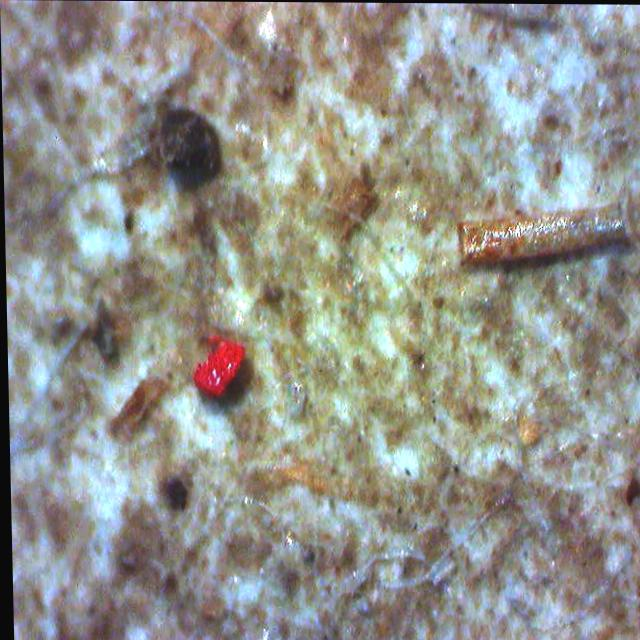microplastic: (184, 329, 251, 403)
